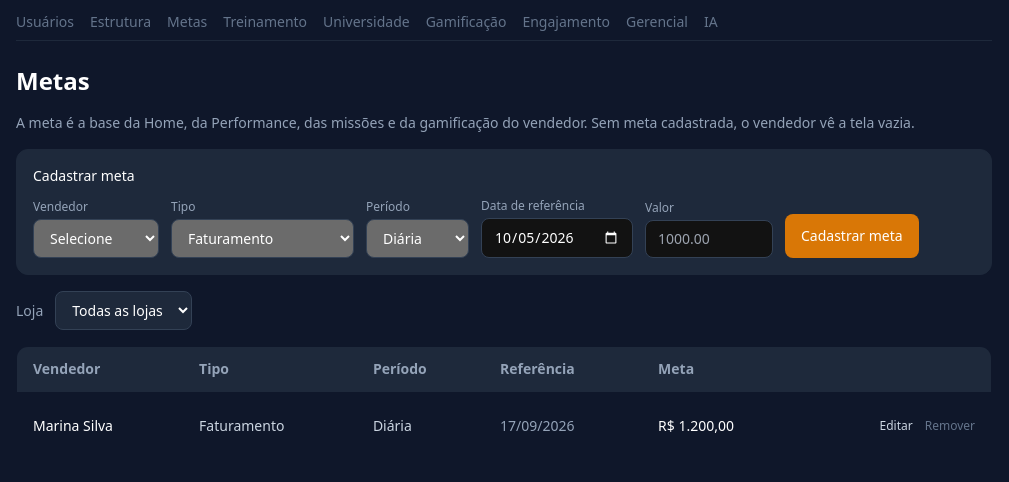
Test: AdminMetas › mostra a mensagem real do backend quando a meta é duplicada (não uma genérica)
Expected: the cell "Marina Silva" is shown, left=16, top=392, right=183, bottom=460
Select "Marina Silva" in the dropdown labelled "Vendedor": (96, 238) left=33, top=219, right=159, bottom=258
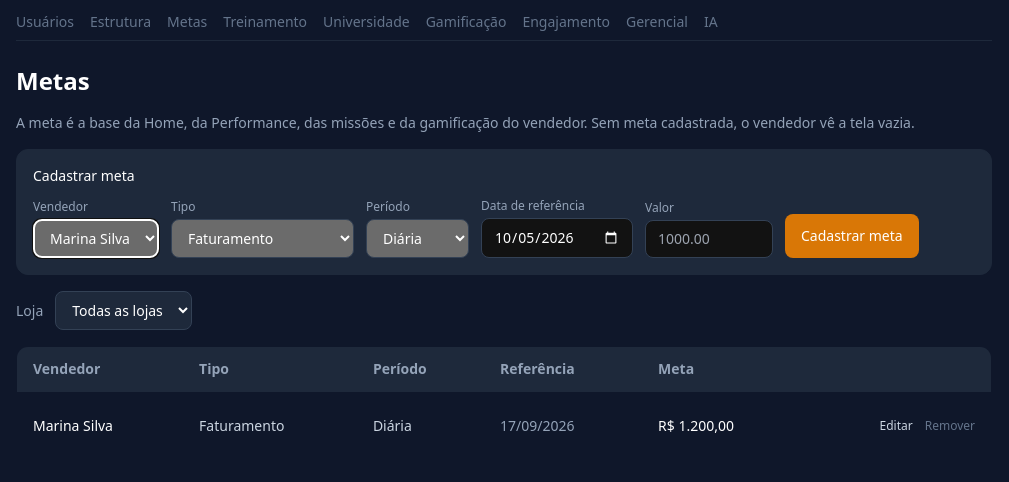
In the number field labelled "Valor": (709, 239) left=645, top=220, right=773, bottom=258, type "1500"
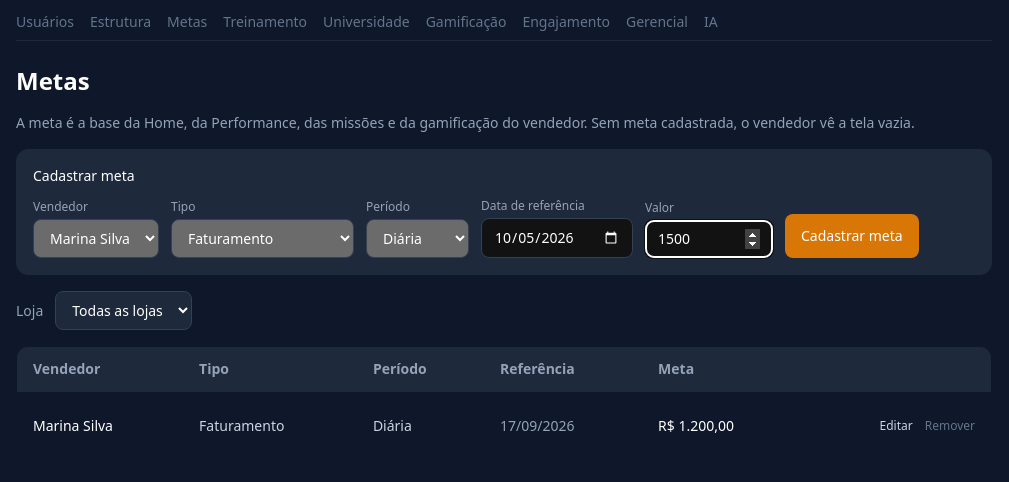
Click the button "Cadastrar meta": (852, 236) left=785, top=214, right=919, bottom=258
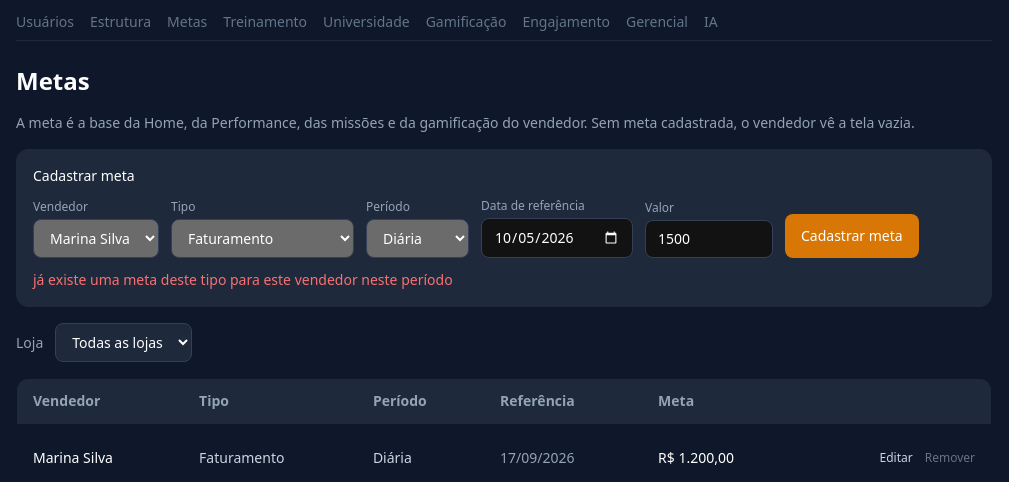
Result: the text "já existe uma meta deste tipo" is shown at left=33, top=270, right=453, bottom=289
